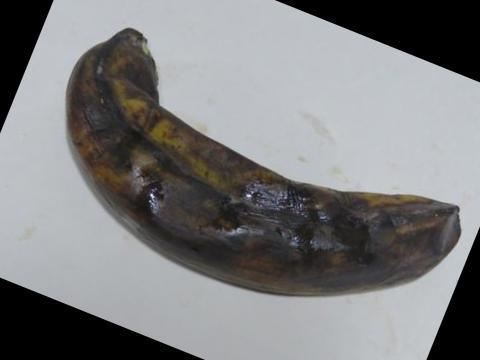rotten: (48, 19, 473, 300)
